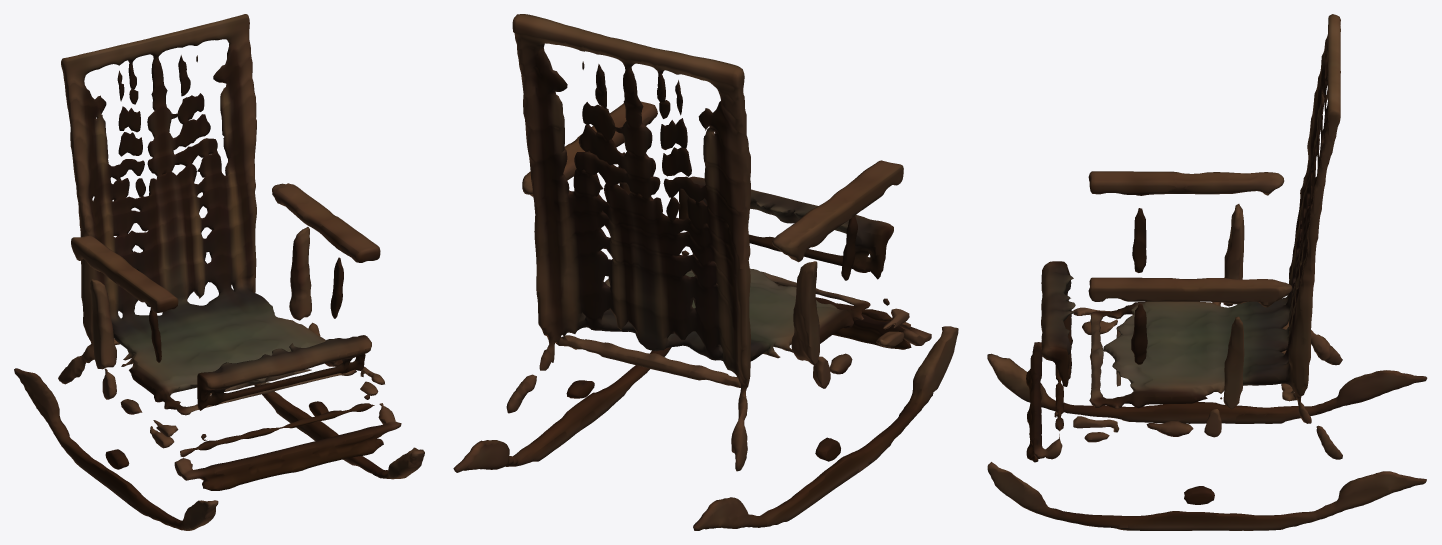
The model's file is A brown wooden rocking chair with beige and grey s.glb.
3 views of the same model, side by side, from view 1: azimuth 30°, elevation 25°; view 2: azimuth 150°, elevation 25°; view 3: azimuth 270°, elevation 25° (orthographic). The views are drawn at different scales.
Visible parts, largest first — view 1: A brown wooden rocking chair with beige and grey s; view 2: A brown wooden rocking chair with beige and grey s; view 3: A brown wooden rocking chair with beige and grey s.
Boxes of the visible parts, left/top/right/bottom form: A brown wooden rocking chair with beige and grey s: left=14, top=14, right=424, bottom=530; A brown wooden rocking chair with beige and grey s: left=453, top=14, right=958, bottom=530; A brown wooden rocking chair with beige and grey s: left=987, top=14, right=1427, bottom=530.
Bounding box in the file's own units: 1.2 × 1.97 × 1.9.
